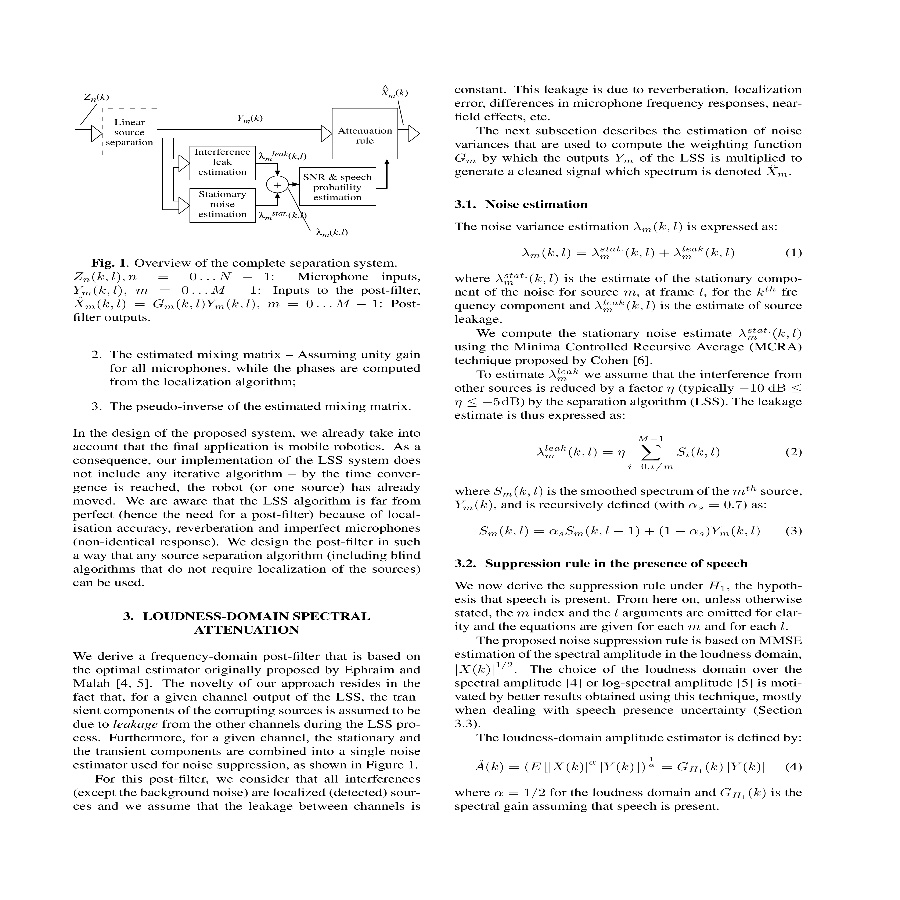eq: (529, 434, 727, 473), (473, 753, 769, 779), (472, 522, 764, 543), (512, 241, 741, 266)
